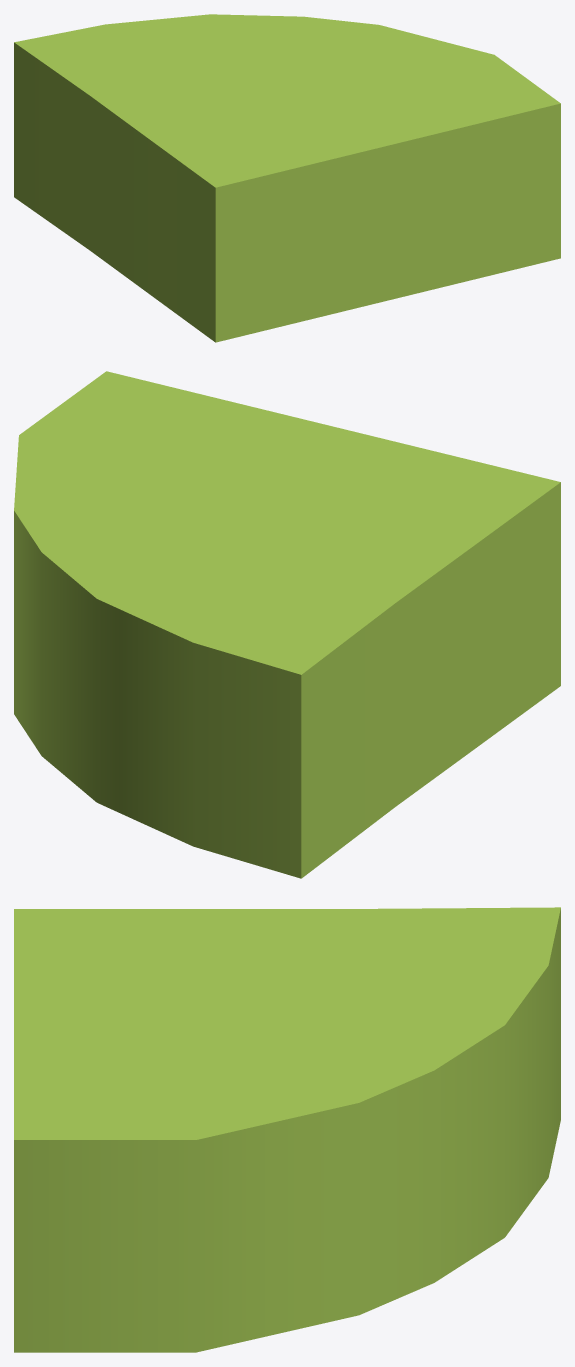
File: LeftSidedRoundEdge.fbx
3 renders of one model, top to bottom at view 1: azimuth 30°, elevation 25°; view 2: azimuth 150°, elevation 25°; view 3: azimuth 270°, elevation 25°, orthographic. The views are drawn at different scales.
Parts seen in each view (by area): view 1: LeftSidedRoundedEdge001; view 2: LeftSidedRoundedEdge001; view 3: LeftSidedRoundedEdge001.
Part boxes in pixels (box(x1,y1,x2,y2)): LeftSidedRoundedEdge001: box(14, 14, 560, 342); LeftSidedRoundedEdge001: box(14, 371, 560, 878); LeftSidedRoundedEdge001: box(14, 907, 560, 1352).
Size of the model in its own units: 278 by 119 by 276.
